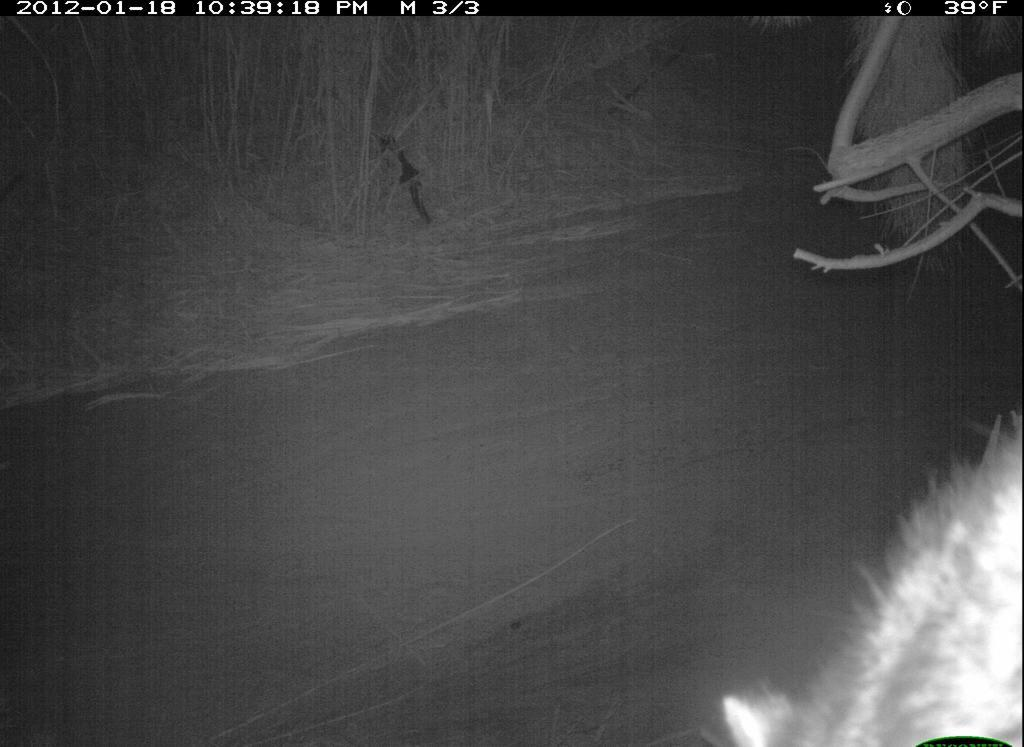raccoon: (715, 391, 1023, 747)
